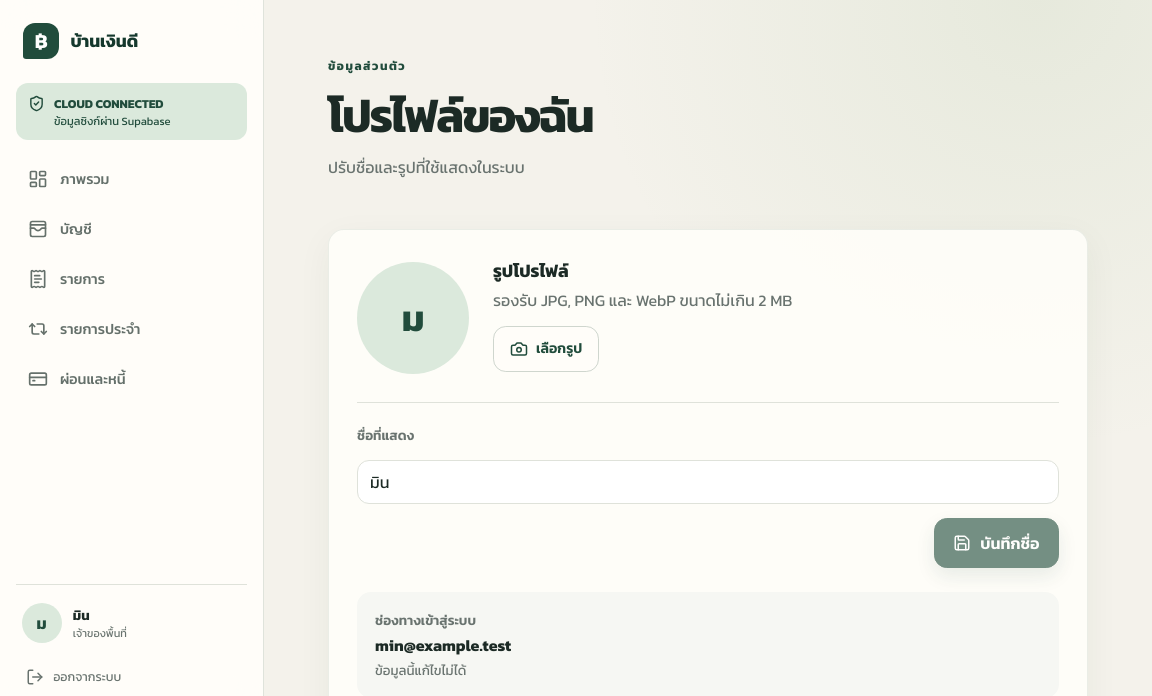
Test: cloud application flow › updates the layout immediately from a server-confirmed profile change
Replace the text in the field labelled "ชื่อที่แสดง" with "มินยืนยันแล้ว" at coordinates (708, 482), box [357, 460, 1059, 504]
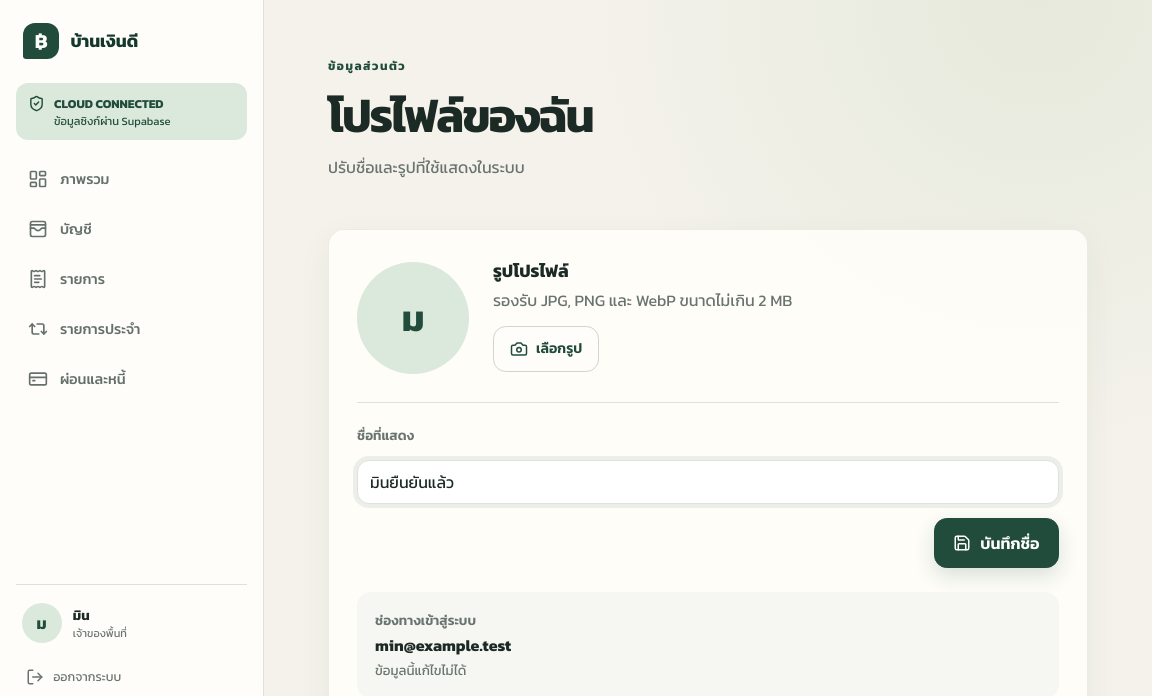
Click the button "บันทึกชื่อ" at coordinates (996, 543), box [934, 518, 1059, 568]
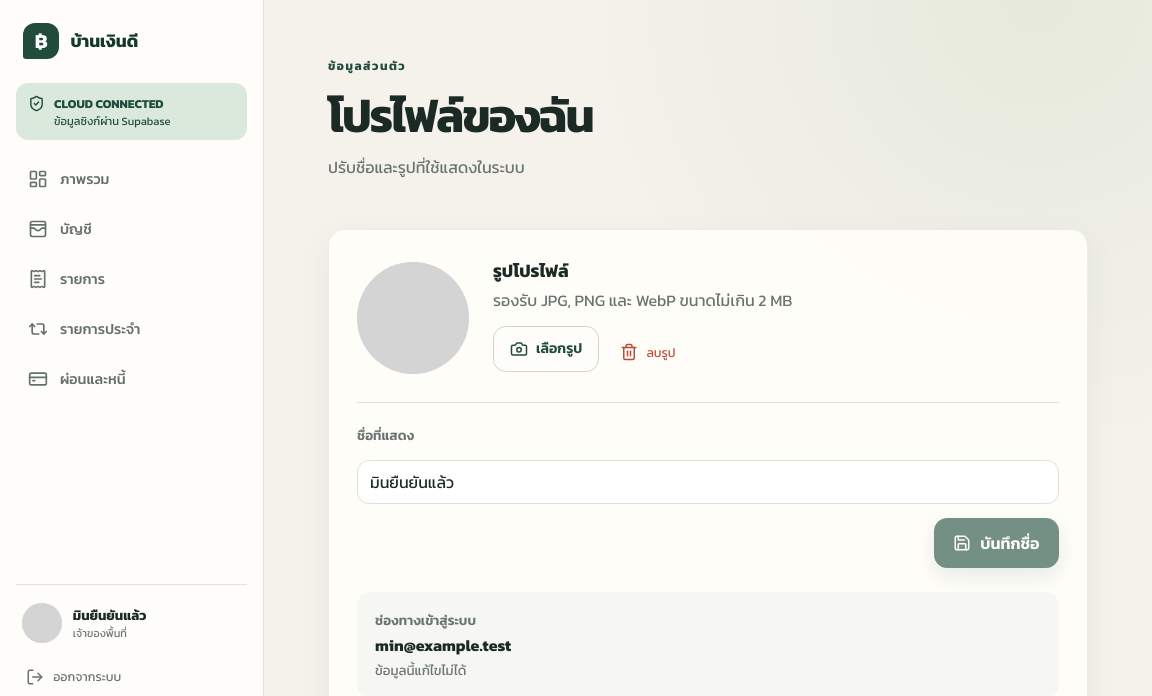
Now the link with aria-label "เปิดโปรไฟล์" shows "มินยืนยันแล้ว", box [22, 603, 146, 643]
Click the link "ภาพรวม" at coordinates (69, 179), box [28, 168, 110, 190]
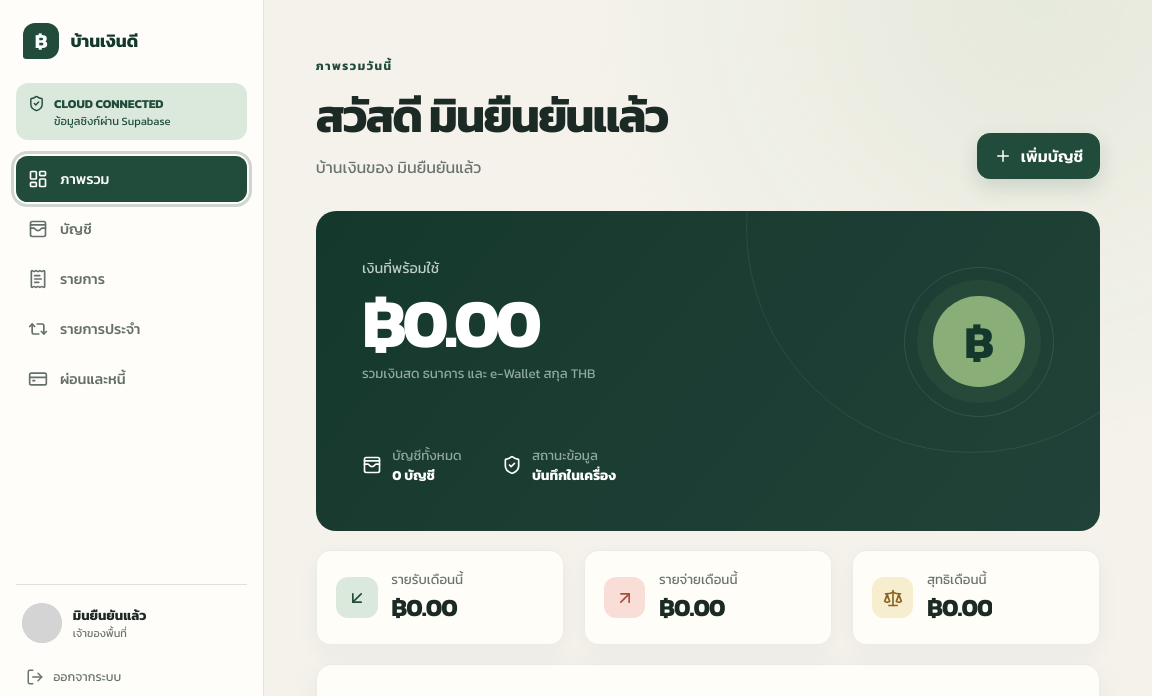
Now the heading "สวัสดี มินยืนยันแล้ว" is shown, box [316, 81, 667, 150]
Now the text "บ้านเงินของ มินยืนยันแล้ว" is shown, box [316, 155, 481, 179]
